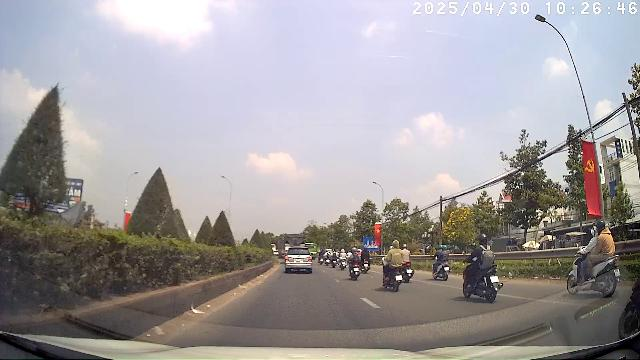421-ket-thuc-khu-dong-dan-cu: (364, 236, 378, 250)
